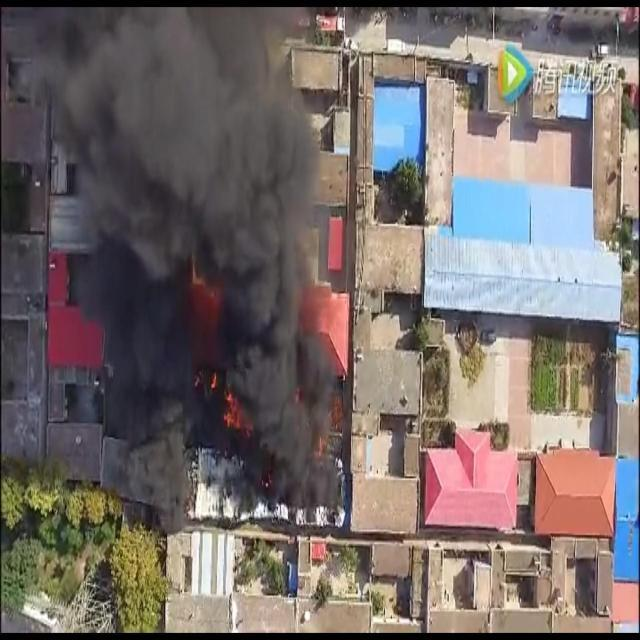Fire: (220, 390, 242, 430)
Smoke: (12, 6, 340, 535)
